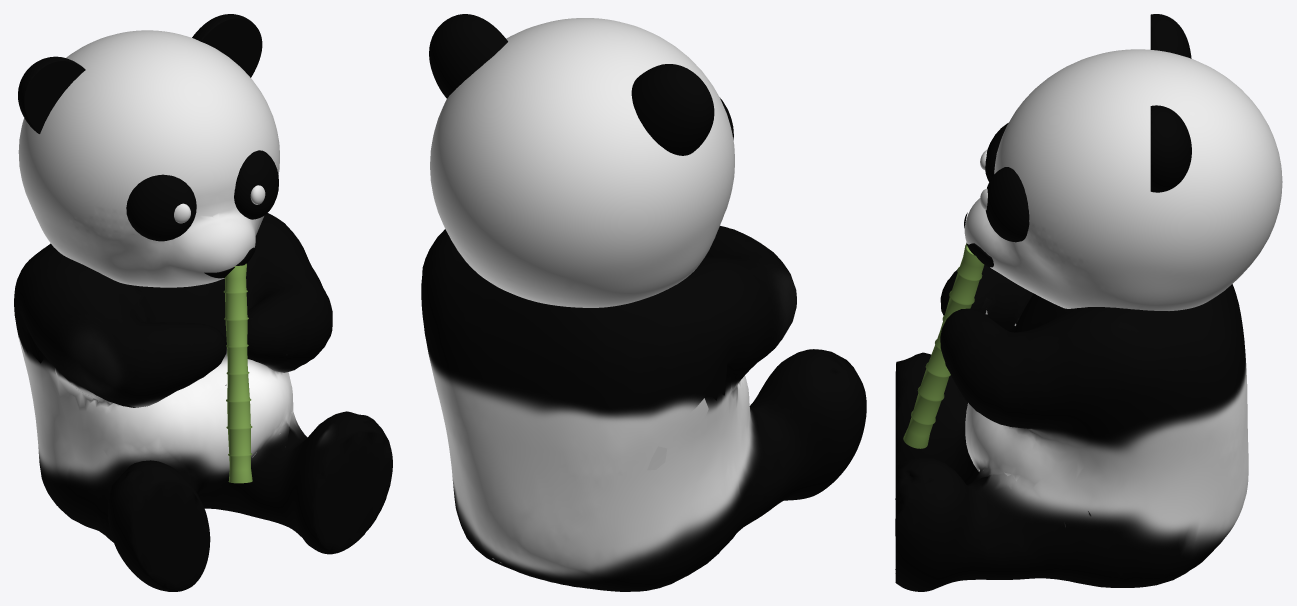
3 renders of one model, left to right at view 1: azimuth 30°, elevation 25°; view 2: azimuth 150°, elevation 25°; view 3: azimuth 270°, elevation 25°, orthographic. The views are drawn at different scales.
Parts seen in each view (by area): view 1: Body, Head, Eyes, Ears, Bamboo; view 2: Body, Head, Ears; view 3: Body, Head, Ears, Bamboo, Eyes.
Boxes of the visible parts, box(x1,y1,x2,y2) form: Body: box(14, 213, 392, 591); Head: box(18, 30, 279, 287); Eyes: box(126, 150, 278, 241); Ears: box(18, 14, 262, 133); Bamboo: box(223, 263, 252, 483); Body: box(421, 226, 866, 591); Head: box(430, 18, 734, 307); Ears: box(429, 14, 714, 155); Body: box(895, 264, 1248, 591); Head: box(964, 49, 1282, 310); Ears: box(1150, 14, 1191, 192); Bamboo: box(903, 243, 984, 448); Eyes: box(980, 123, 1029, 242).
Bounding box in the file's own units: 2.75 × 4.43 × 3.15.
Materials: 4 (1 with a texture image).
